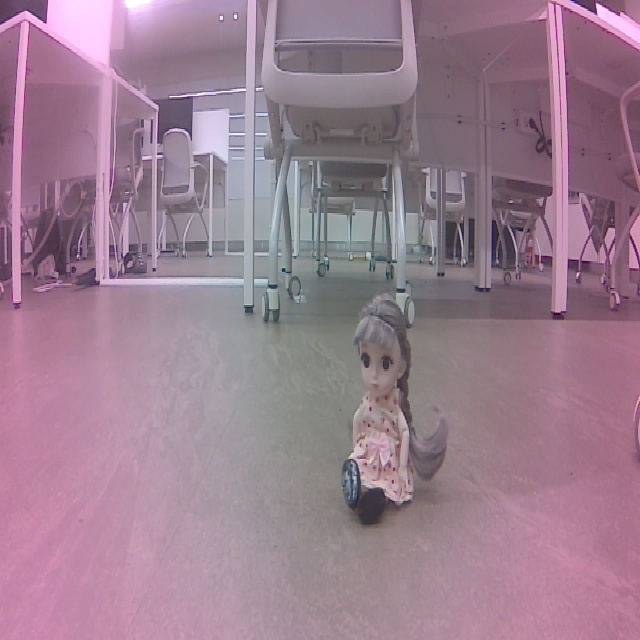장애물: (417, 258, 535, 490)
